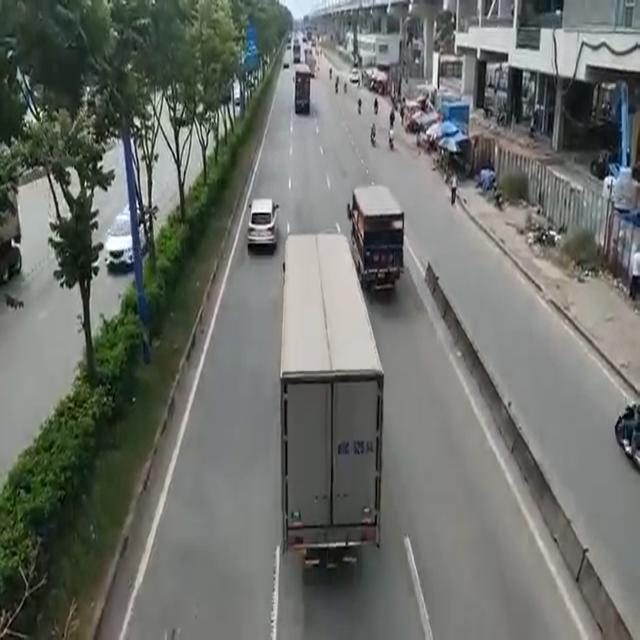car: (250, 194, 274, 252)
truck: (283, 236, 374, 586), (353, 184, 408, 286), (294, 70, 309, 119)
